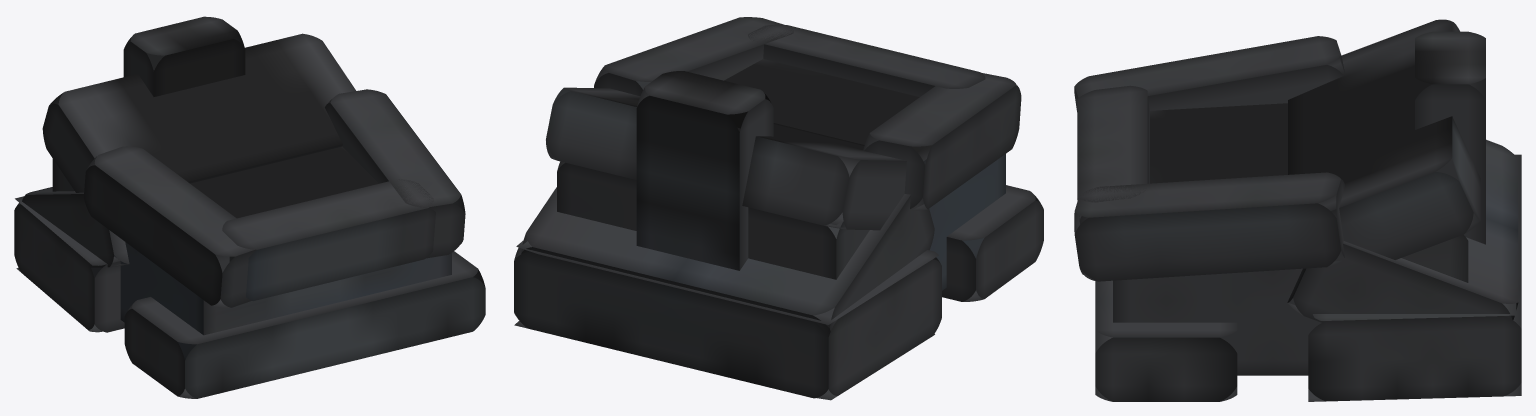
File: cqb_kit_b_r.obj
The picture shows the model from 3 angles, left to right: view 1: azimuth 30°, elevation 25°; view 2: azimuth 150°, elevation 25°; view 3: azimuth 270°, elevation 25°; orthographic projection. The views are drawn at different scales.
Parts seen in each view (by area): view 1: cube; view 2: cube; view 3: cube.
Part boxes in pixels (x1=…): cube: x1=14, y1=16, x2=485, y2=398; cube: x1=514, y1=17, x2=1043, y2=400; cube: x1=1074, y1=19, x2=1521, y2=401.
Size of the model in its own units: 0.3594 by 0.25 by 0.3952.
